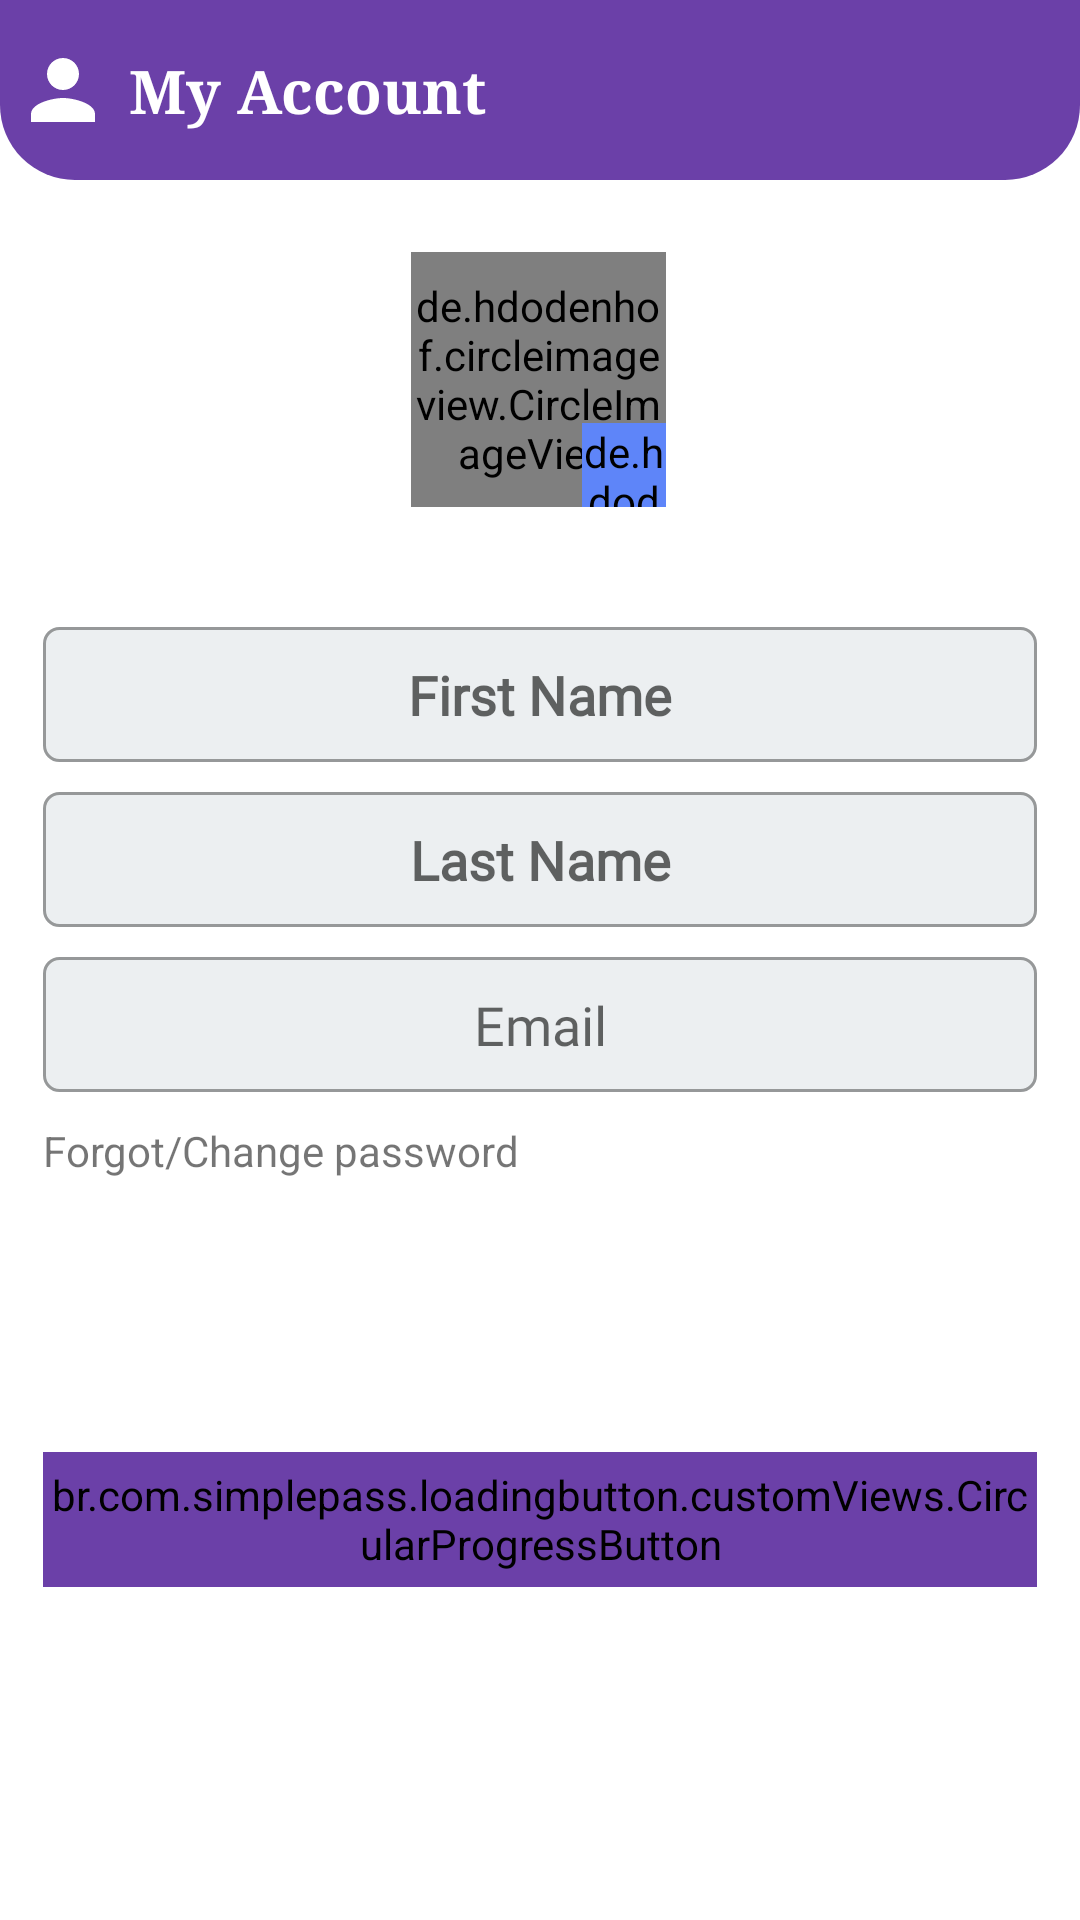

Icons on this 1080*1920 Android screen, each with the point to tap as [x,y]:
person: [63,90]
